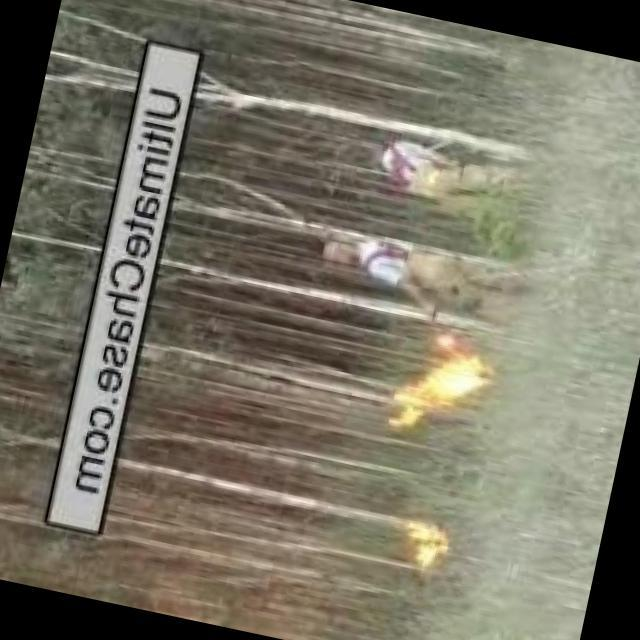Fire: (389, 329, 494, 435), (406, 515, 465, 579)
